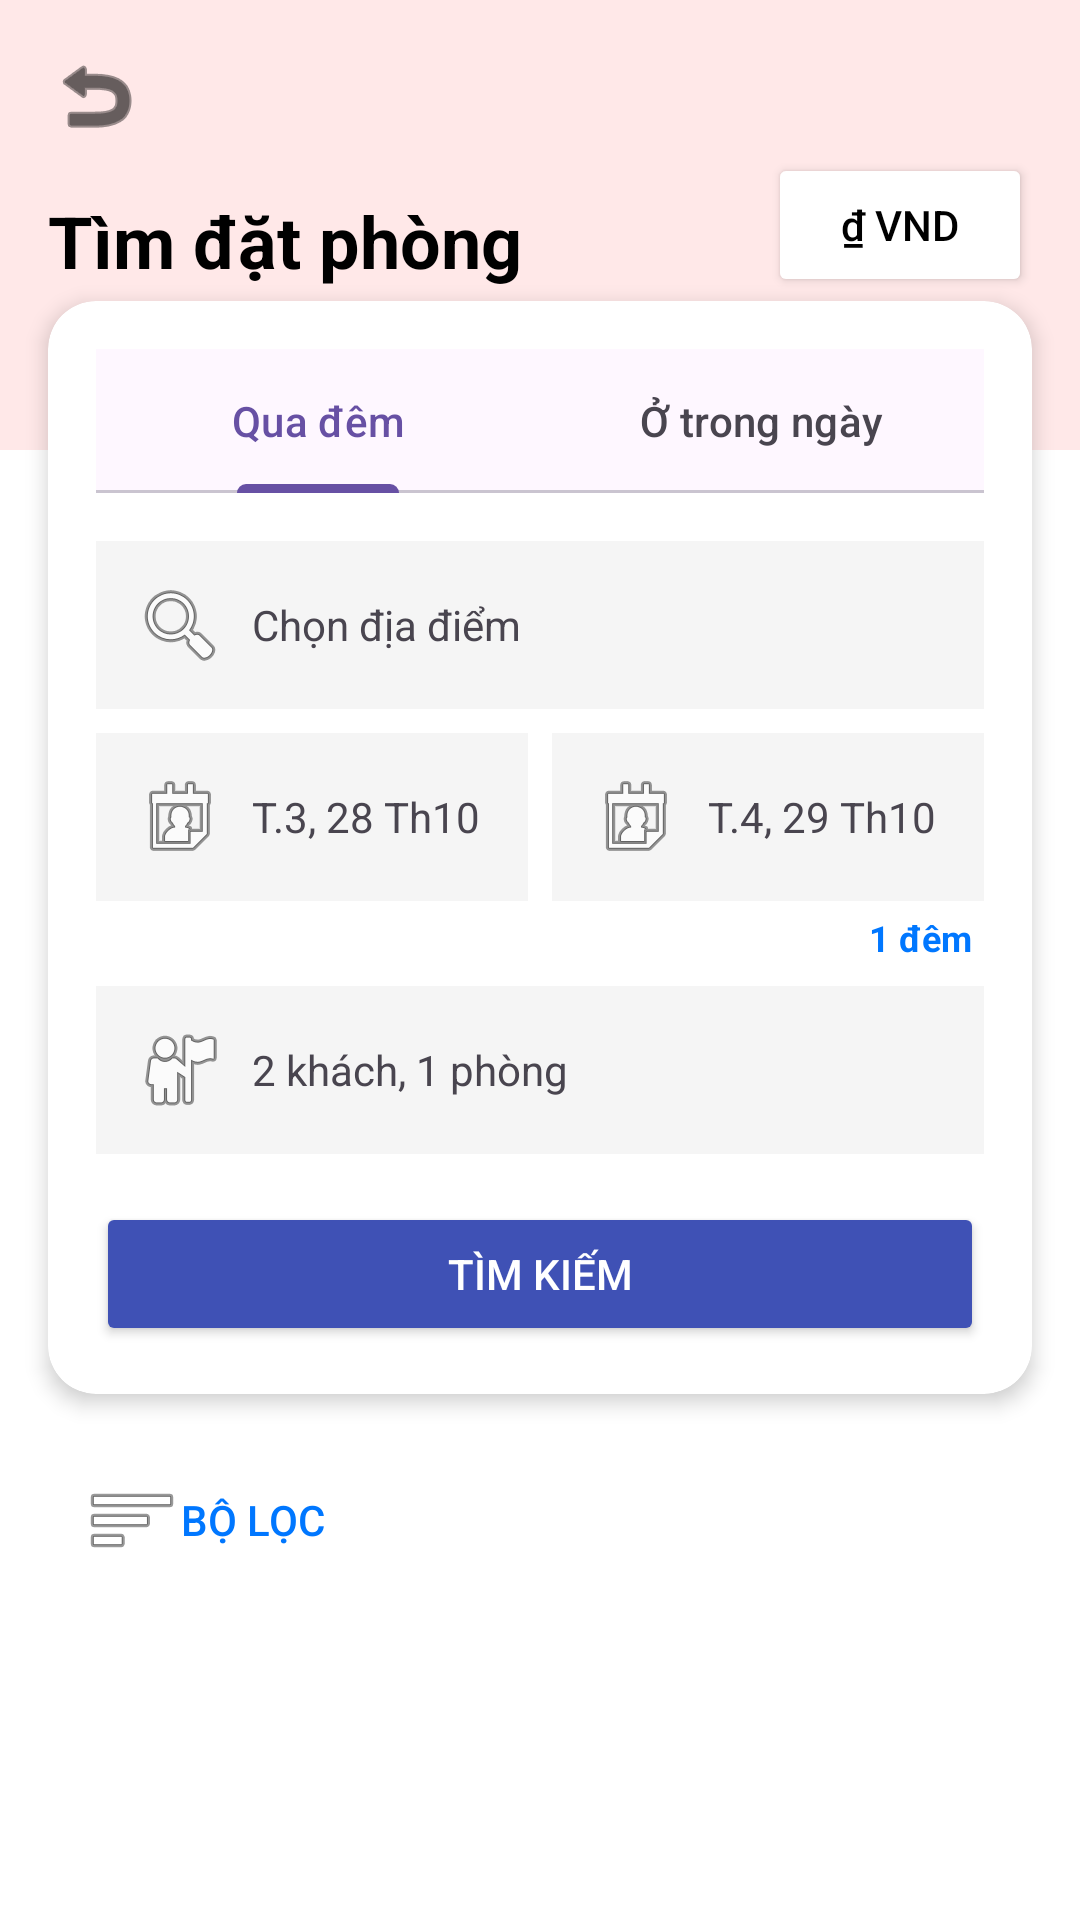

Screen size 1080w x 1920h. Icon name, then its box in pixels as bbox=[x1, y1, x2, y2]:
Back: bbox=[63, 65, 132, 128]
